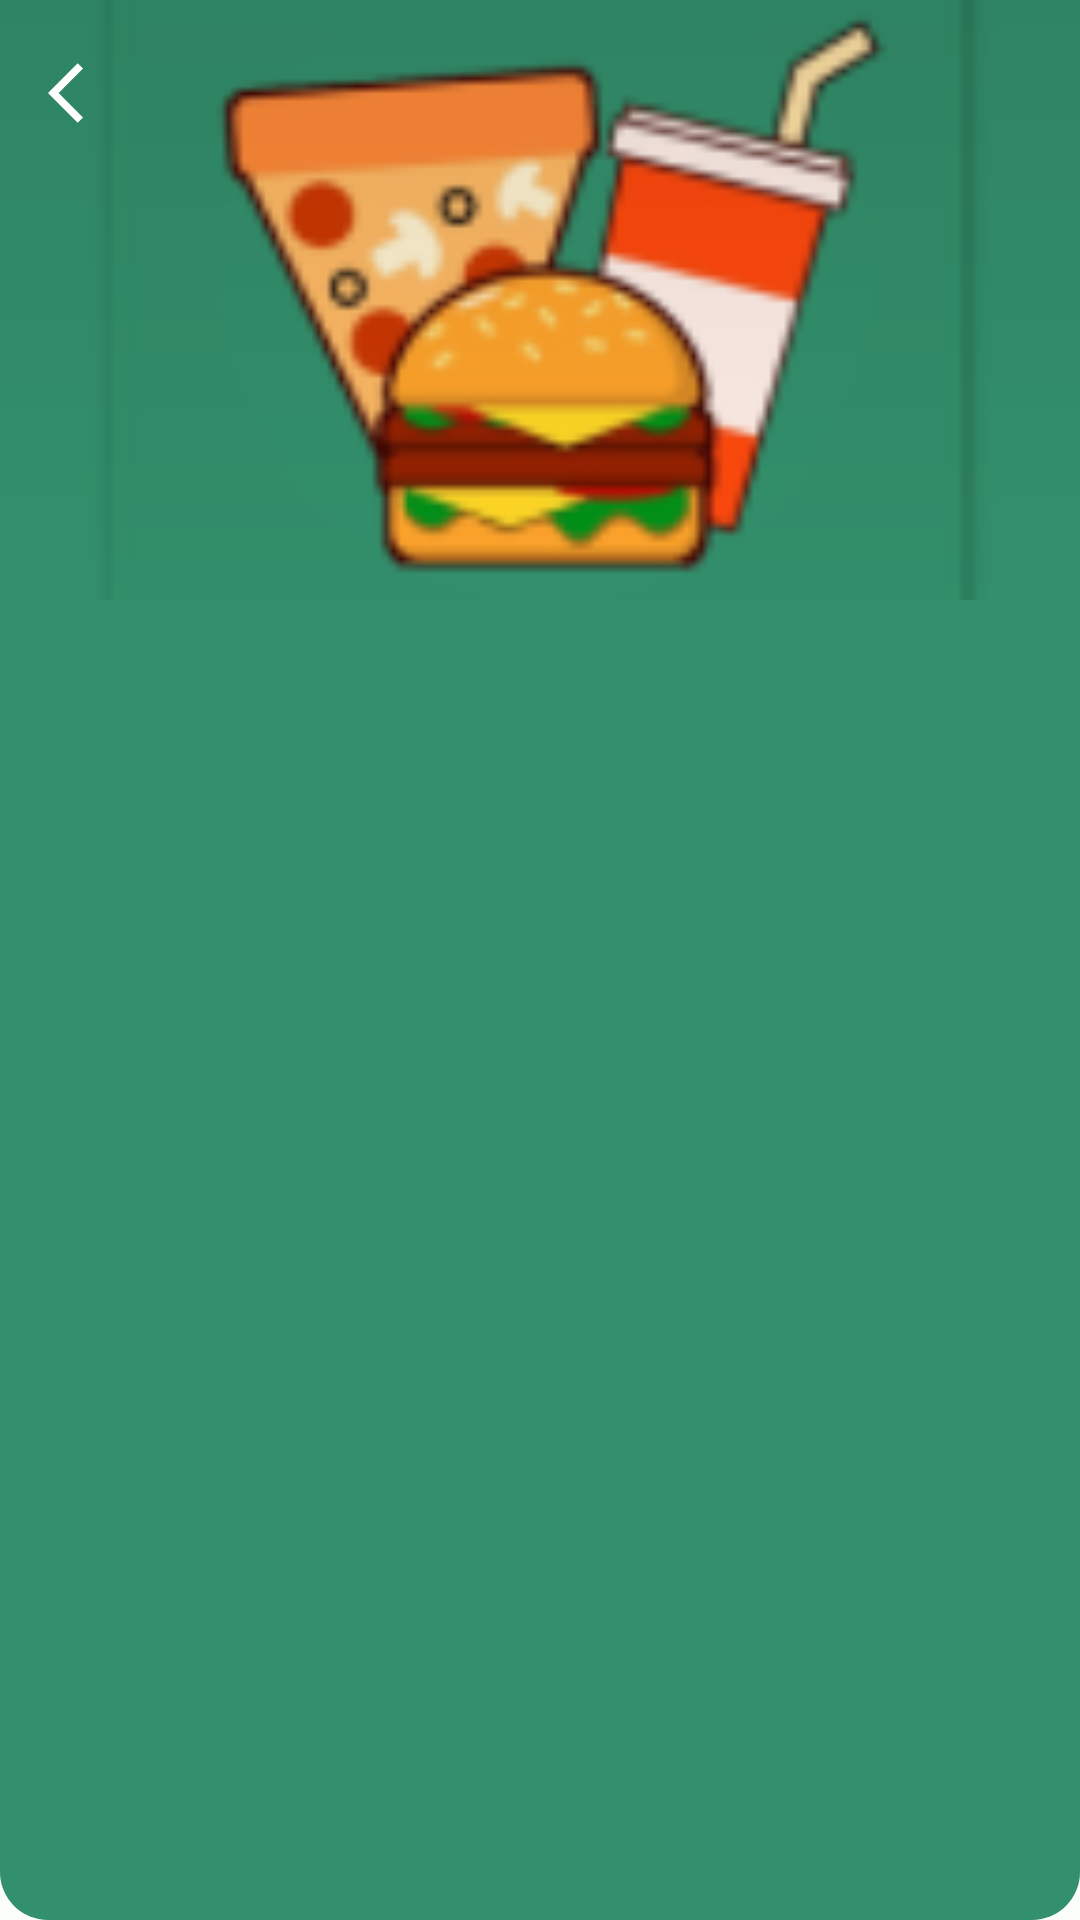

Where icons sit on this 1080*1920 app screen, as [x1=x1, y1=y1, x2=x2, y2=y2]:
back arrow: [x1=48, y1=63, x2=83, y2=123]
